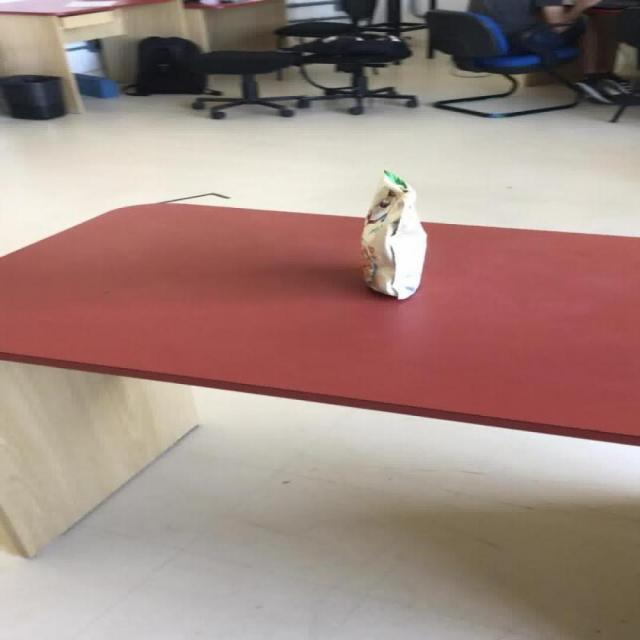CornFlakes: (358, 169, 427, 299)
